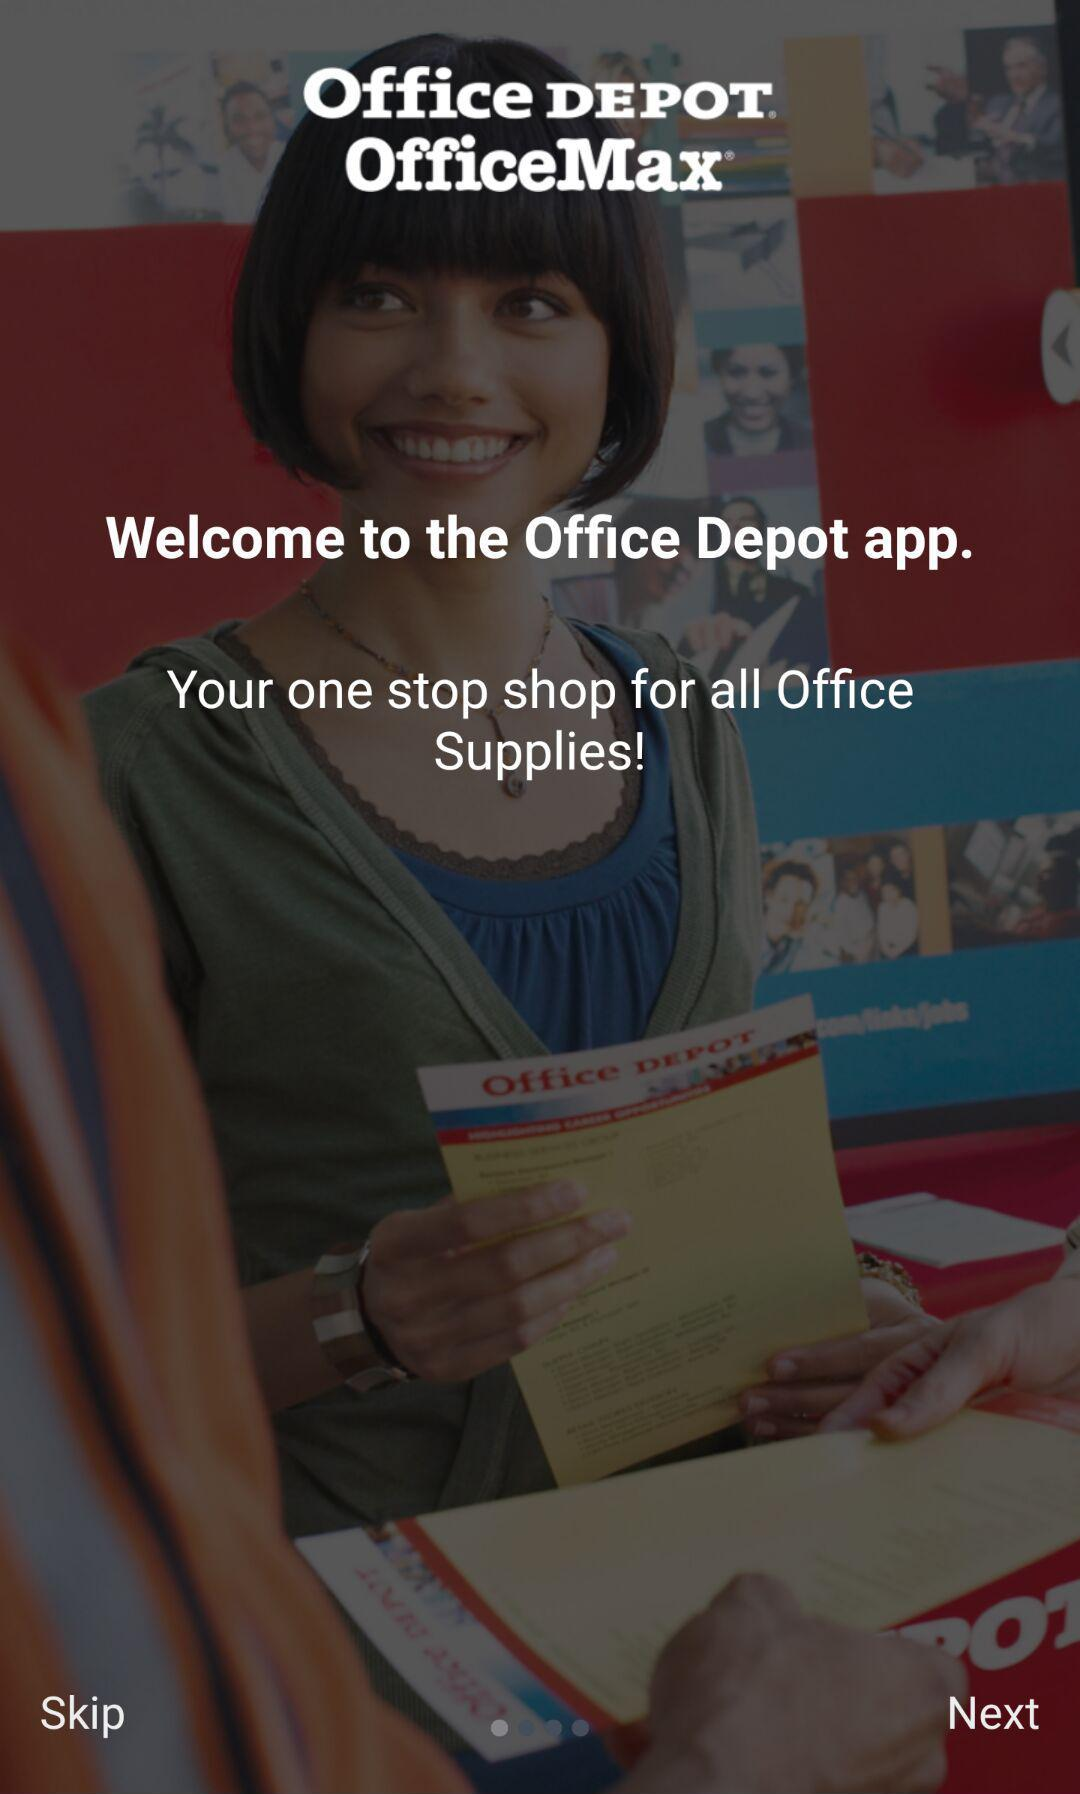BackgroundImage: (1, 1, 1080, 1794)
PageIndicator: (489, 1718, 591, 1738)
Text: (167, 666, 915, 783), (302, 67, 778, 193), (105, 514, 972, 572), (40, 1693, 126, 1740), (948, 1697, 1040, 1731)
